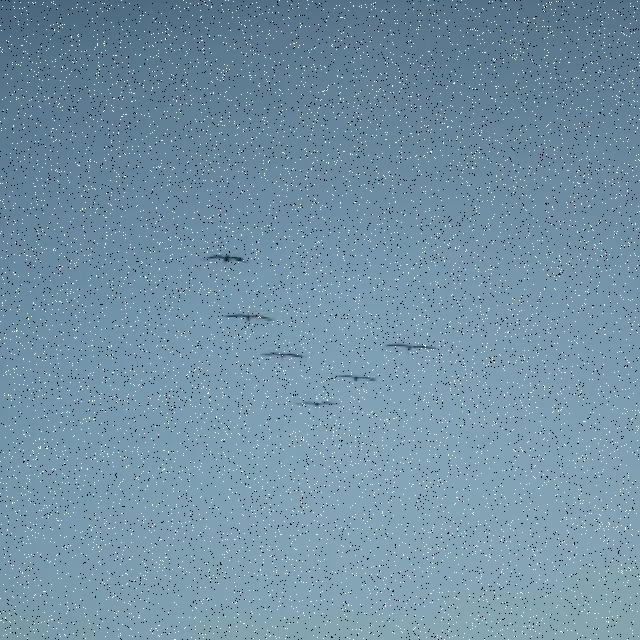bird: (202, 253, 250, 264), (383, 344, 439, 353), (223, 313, 274, 322), (334, 374, 377, 382), (259, 352, 307, 359), (296, 401, 339, 408)
